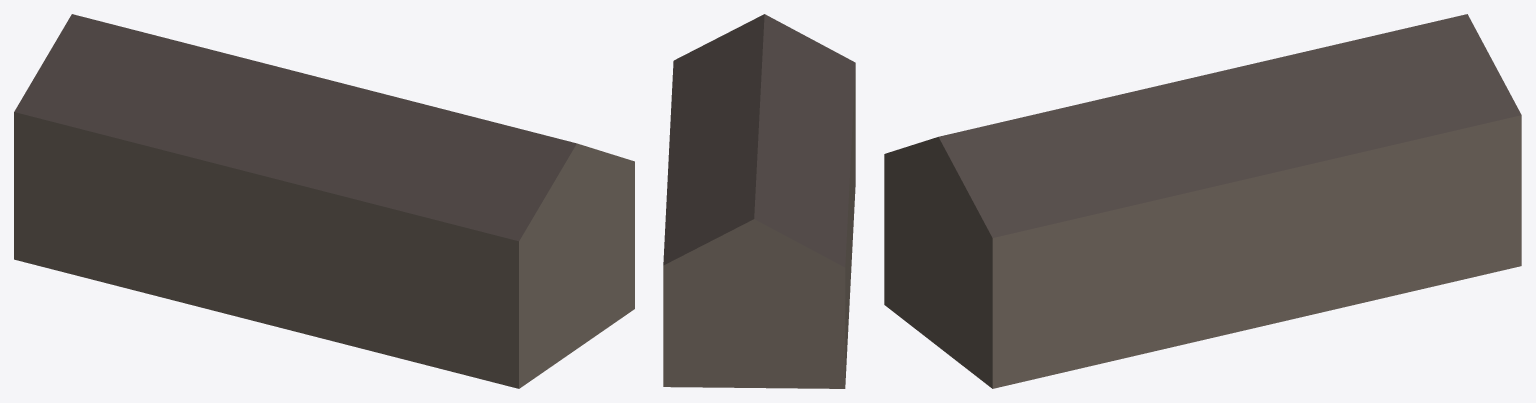
The picture shows the model from 3 angles, left to right: view 1: azimuth 30°, elevation 25°; view 2: azimuth 150°, elevation 25°; view 3: azimuth 270°, elevation 25°; orthographic projection. The views are drawn at different scales.
Parts seen in each view (by area): view 1: HP-w859088511; view 2: HP-w859088511; view 3: HP-w859088511.
Part boxes in pixels (bbox=[...]): HP-w859088511: bbox=[14, 14, 634, 388]; HP-w859088511: bbox=[663, 14, 855, 388]; HP-w859088511: bbox=[884, 14, 1521, 388].
Bounding box in the file's own units: 17.65 × 8.36 × 22.97.
